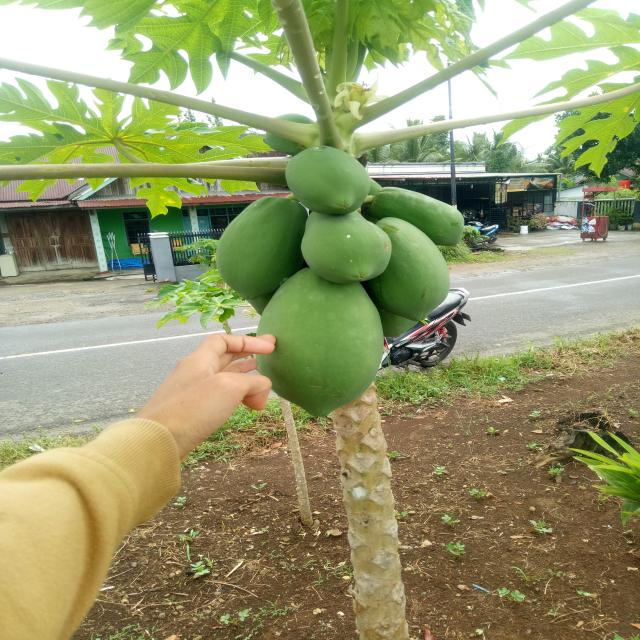Pepaya unrippen: (248, 279, 384, 414), (209, 190, 300, 299), (296, 210, 387, 282), (380, 186, 482, 247), (376, 232, 445, 322), (291, 145, 364, 212)
